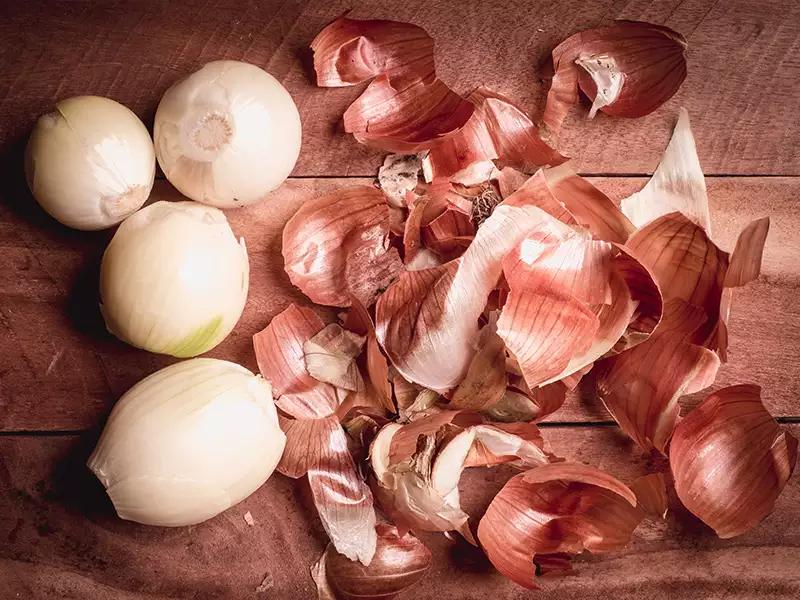organic: (376, 189, 635, 393), (597, 212, 728, 452), (369, 409, 547, 537), (153, 60, 301, 208), (311, 17, 473, 152), (477, 462, 642, 587), (669, 384, 797, 538), (543, 21, 685, 134), (282, 186, 401, 306), (253, 305, 363, 419)
